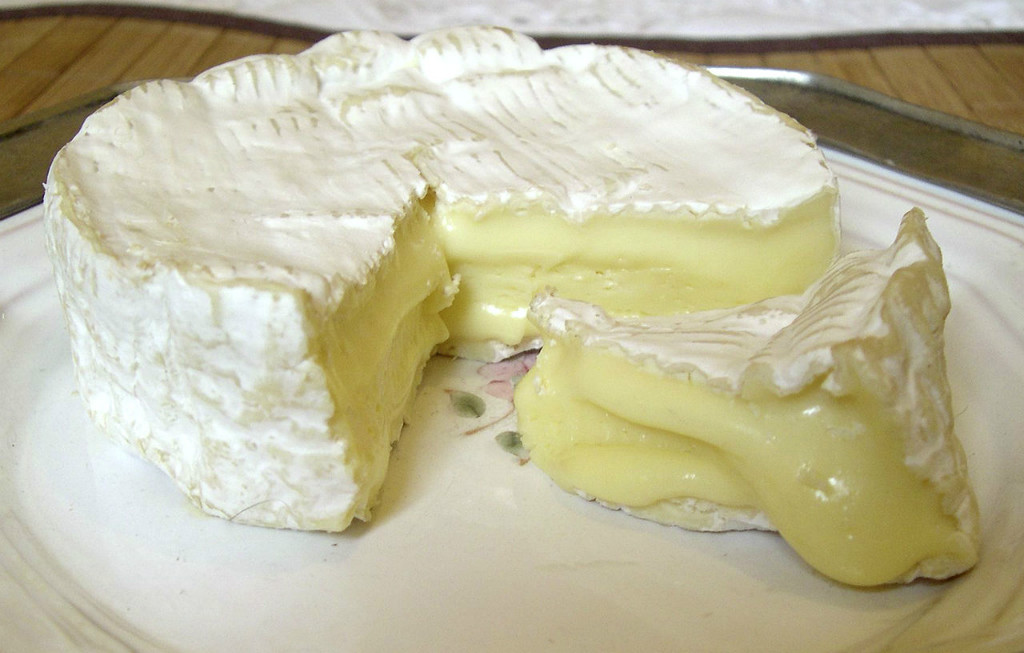camembert: (41, 20, 984, 586)
